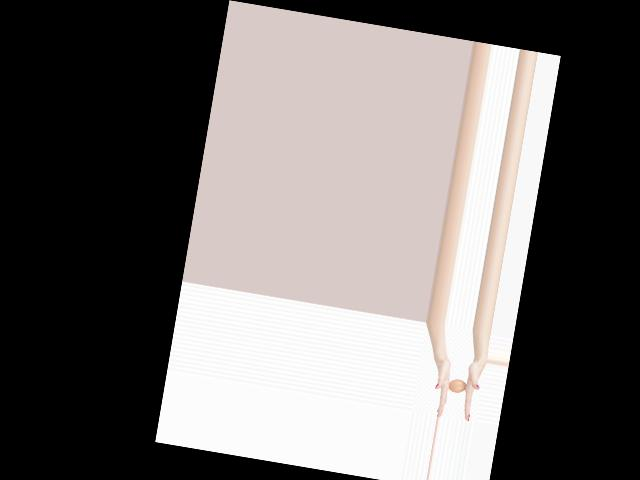egg: (447, 377, 466, 393)
